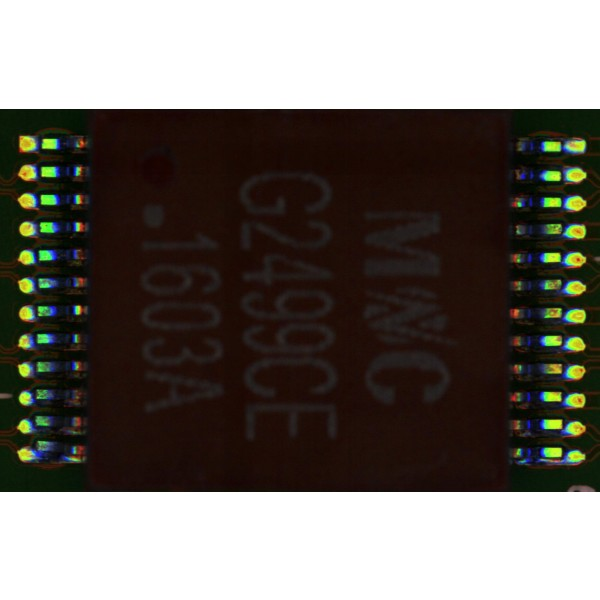Bad_qiaojiao: (523, 458, 562, 464)
